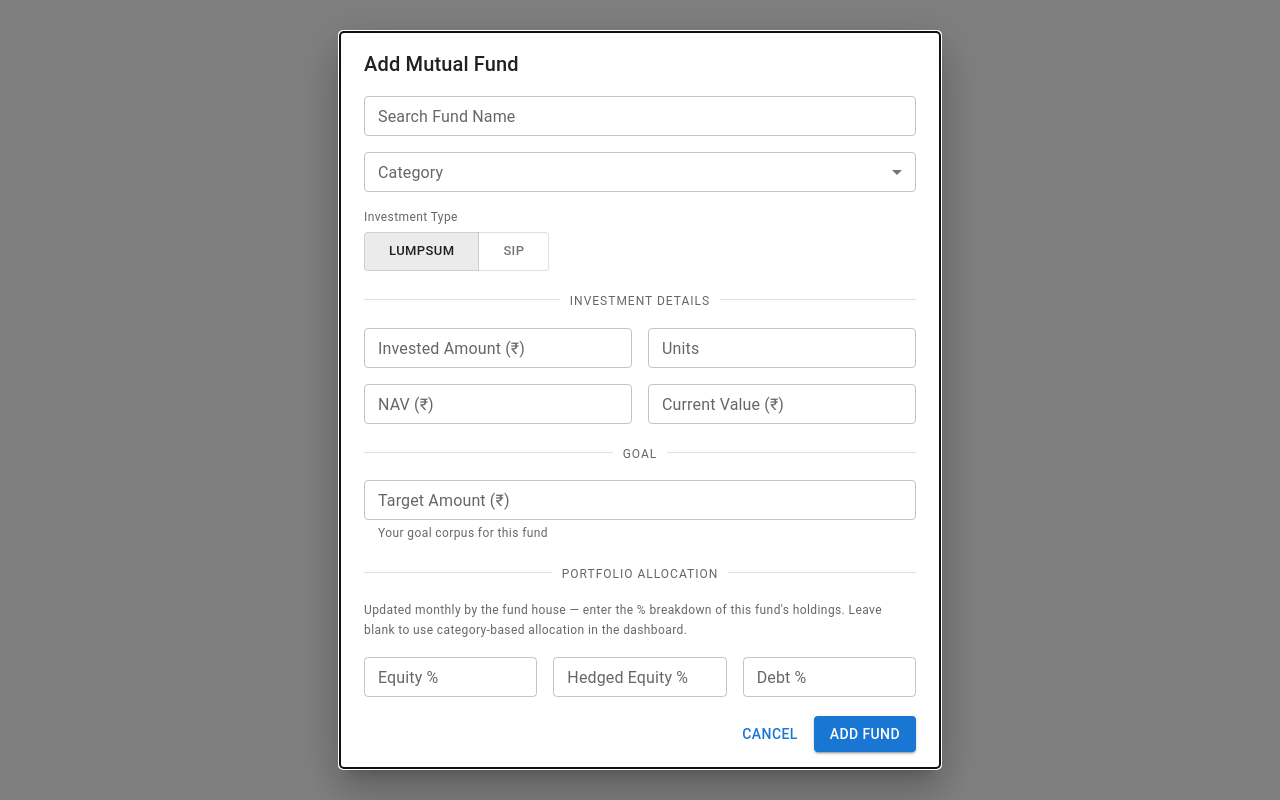
Test case: Mutual funds Components › Mutual Fund Modal form interactions › can change current value showing loss (covers negative gain branch)
The width and height of the screenshot is (1280, 800).
Type "50000" into the number field labelled "Invested Amount (₹)".
click(498, 348); type("50000")  # box [364,328,632,368]
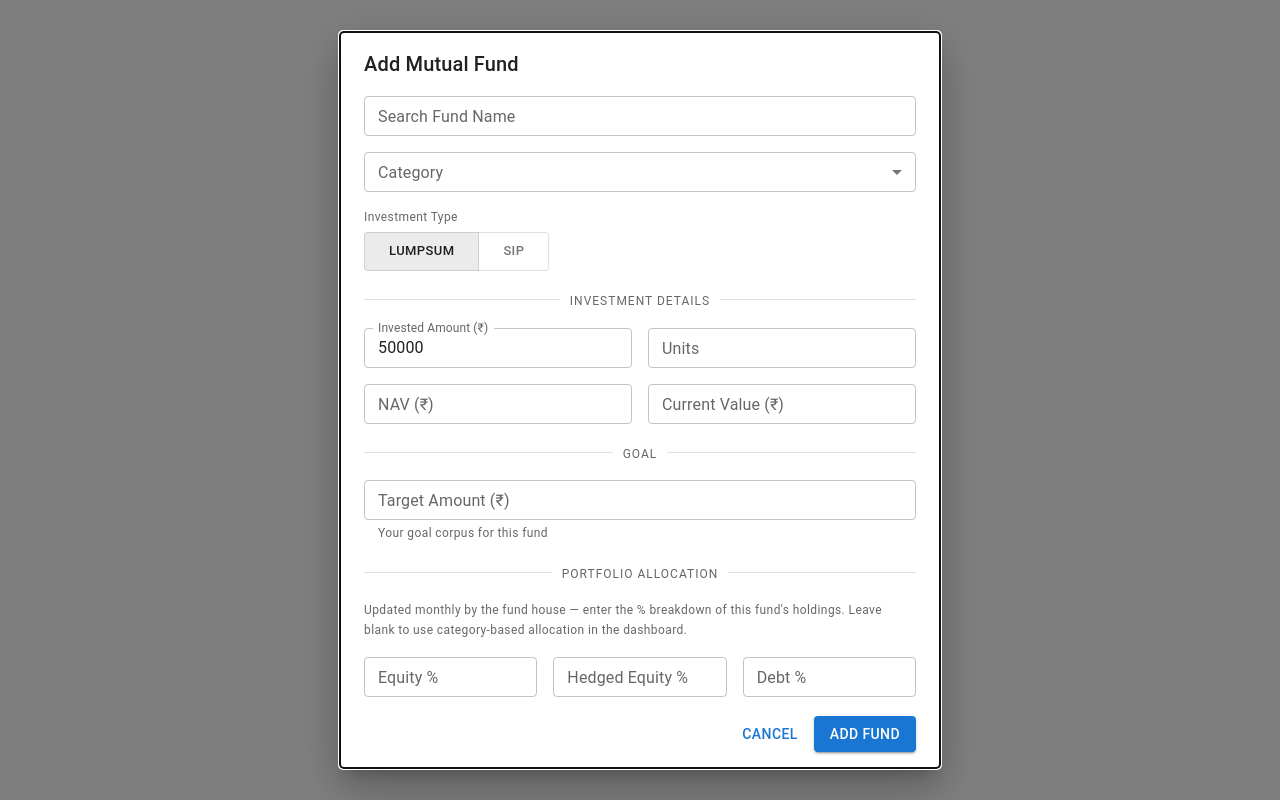
Type "45000" into the number field labelled "Current Value (₹)".
click(782, 404); type("45000")  # box [648,384,916,424]
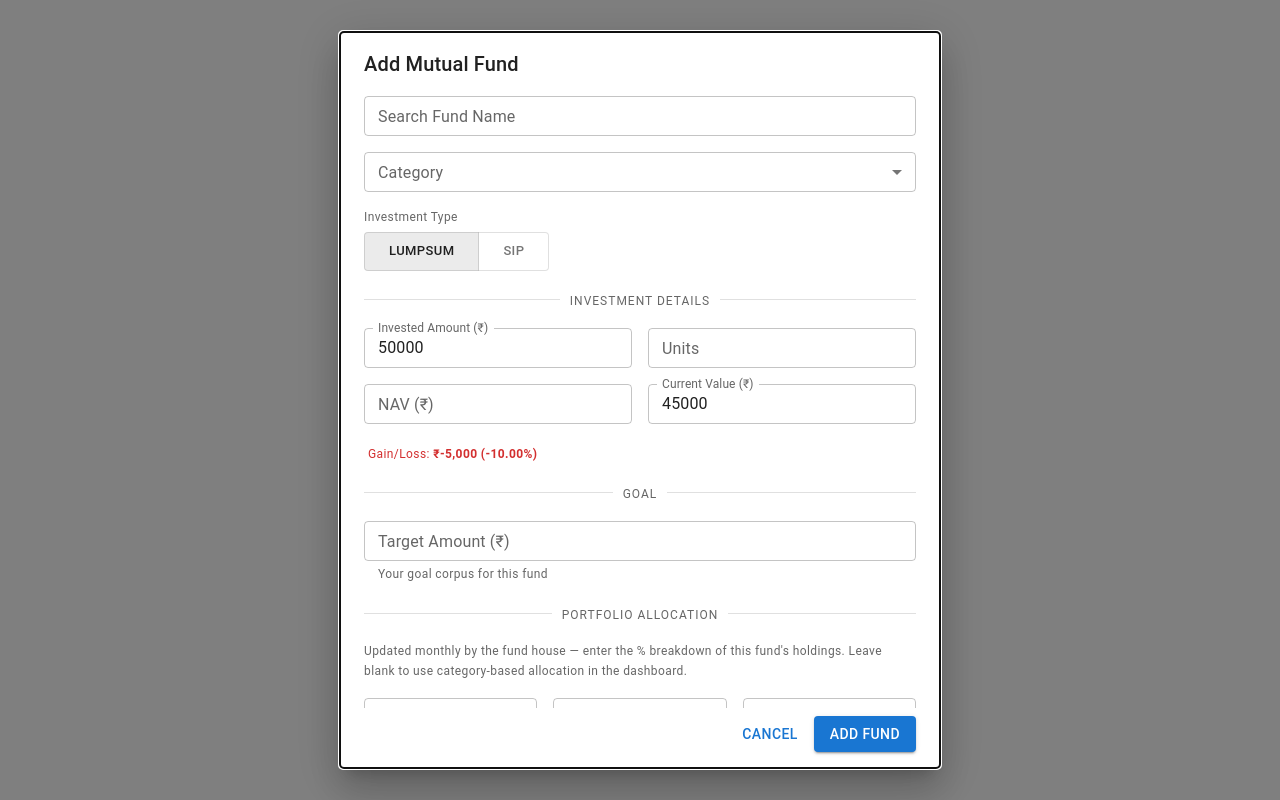
Result: the text "Gain/Loss: ₹-5,000 (-10.00%)" is shown at [368,447,538,461]
